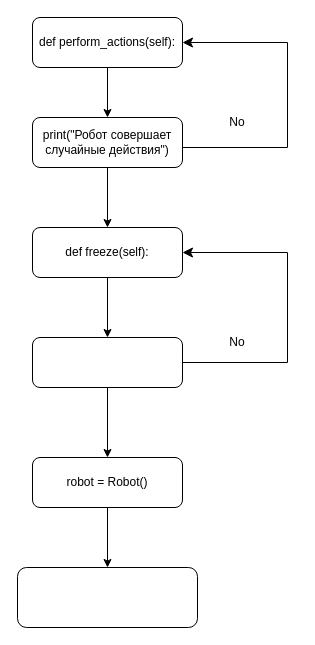
Image size: 315x645. Some labels were removed from this diagram. Each missing label, with the centre of its shape:
print("Робот бездействует"): point 107,362
robot.perform_actions() robot.perform_actions() robot.freeze(): point 107,597
